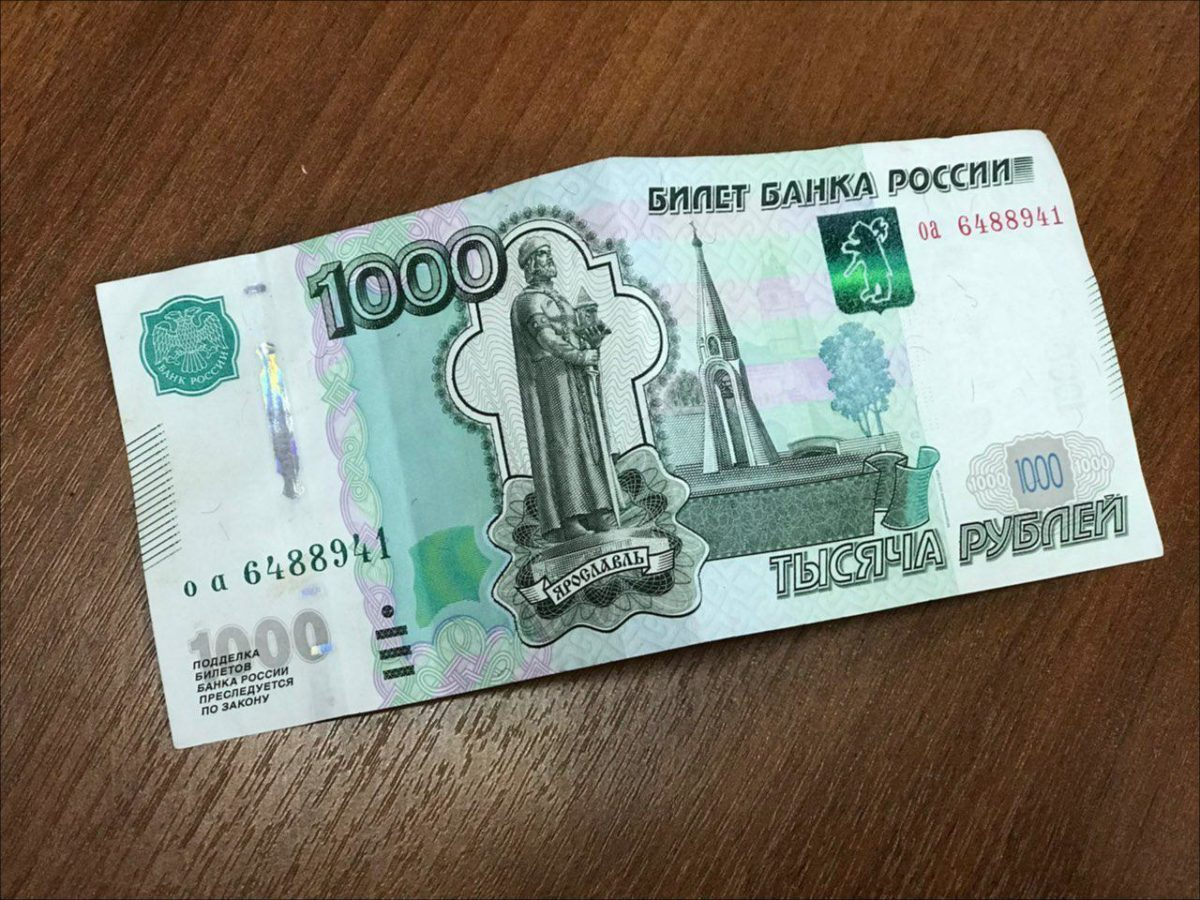cash: (93, 131, 1164, 751)
